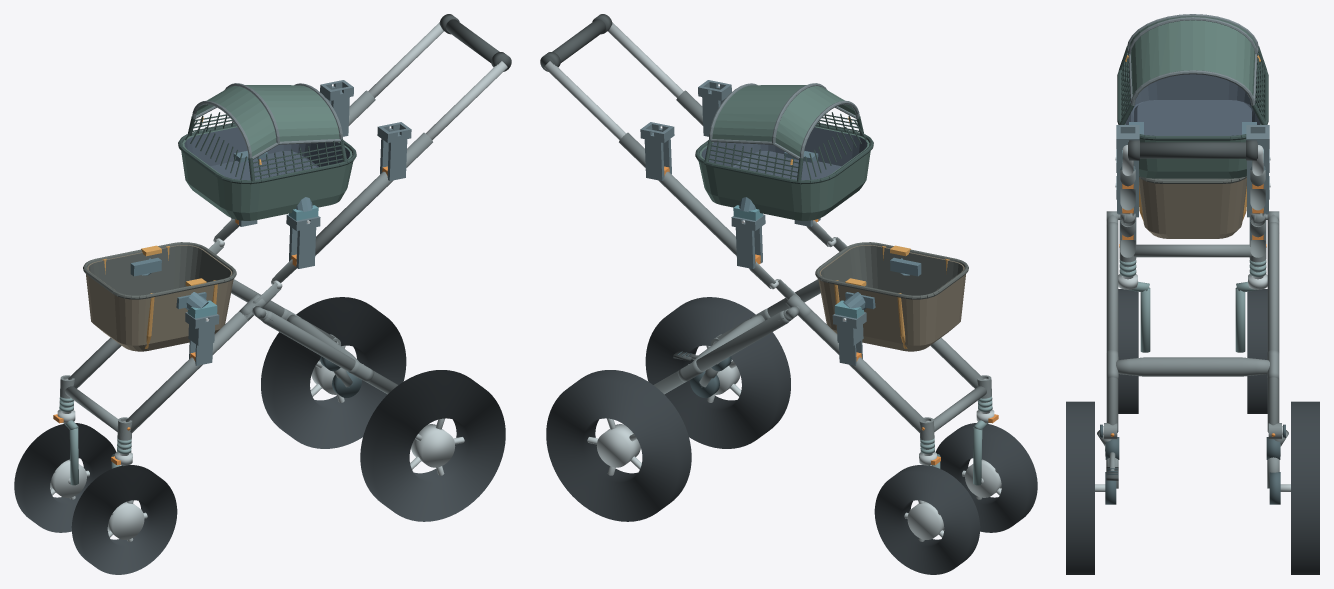
Rendered from D35_w380_state1_wheel_L.glb.
The picture shows the model from 3 angles, left to right: view 1: azimuth 30°, elevation 25°; view 2: azimuth 150°, elevation 25°; view 3: azimuth 270°, elevation 25°; orthographic projection. The views are drawn at different scales.
Visible parts, largest first — view 1: D35_Upper, RL_tire.009, RR_tire.009, D35_Lower, FL_tire.009, FR_tire.009, main_lower_-1, main_upper_-1, V46_rear_leg_-1.002, Universal_Cabin_Receiver_H_-1, RL_sealed_hub.009, Universal_Cabin_Receiver_M_-1 (+12 smaller); view 2: D35_Upper, RR_tire.009, RL_tire.009, D35_Lower, FR_tire.009, FL_tire.009, main_lower_1, main_upper_1, V46_rear_leg_1.002, Universal_Cabin_Receiver_H_1, RR_sealed_hub.009, Universal_Cabin_Receiver_M_1 (+12 smaller); view 3: D35_Upper, D35_Lower, RL_tire.009, RR_tire.009, V46_rearbar.002, V46_rear_leg_-1.002, V46_rear_leg_1.002, FL_tire.009, FR_tire.009, round_handle.010, front_fixed_round_tube, Universal_Cabin_Receiver_H_1 (+10 smaller).
Boxes of the visible parts, bbox=[...] form: D35_Upper: bbox=[178, 83, 356, 220]; RL_tire.009: bbox=[360, 370, 505, 521]; RR_tire.009: bbox=[261, 297, 406, 448]; D35_Lower: bbox=[83, 242, 236, 351]; FL_tire.009: bbox=[71, 465, 177, 574]; FR_tire.009: bbox=[14, 423, 115, 532]; main_lower_-1: bbox=[125, 311, 252, 433]; main_upper_-1: bbox=[315, 132, 432, 255]; V46_rear_leg_-1.002: bbox=[262, 310, 398, 394]; Universal_Cabin_Receiver_H_-1: bbox=[377, 122, 411, 180]; RL_sealed_hub.009: bbox=[411, 424, 455, 467]; Universal_Cabin_Receiver_M_-1: bbox=[286, 214, 320, 268]; D35_Upper: bbox=[695, 83, 873, 220]; RR_tire.009: bbox=[546, 370, 691, 521]; RL_tire.009: bbox=[645, 297, 790, 448]; D35_Lower: bbox=[815, 242, 968, 351]; FR_tire.009: bbox=[874, 465, 980, 574]; FL_tire.009: bbox=[936, 423, 1037, 532]; main_lower_1: bbox=[799, 311, 926, 433]; main_upper_1: bbox=[619, 132, 736, 255]; V46_rear_leg_1.002: bbox=[653, 310, 789, 394]; Universal_Cabin_Receiver_H_1: bbox=[640, 122, 674, 180]; RR_sealed_hub.009: bbox=[596, 424, 640, 467]; Universal_Cabin_Receiver_M_1: bbox=[731, 214, 765, 268]; D35_Upper: bbox=[1117, 14, 1268, 178]; D35_Lower: bbox=[1139, 176, 1246, 238]; RL_tire.009: bbox=[1066, 401, 1094, 574]; RR_tire.009: bbox=[1291, 401, 1319, 574]; V46_rearbar.002: bbox=[1116, 357, 1269, 376]; V46_rear_leg_-1.002: bbox=[1106, 222, 1118, 432]; V46_rear_leg_1.002: bbox=[1267, 222, 1279, 432]; FL_tire.009: bbox=[1118, 289, 1138, 413]; FR_tire.009: bbox=[1247, 289, 1267, 413]; round_handle.010: bbox=[1128, 142, 1257, 158]; front_fixed_round_tube: bbox=[1133, 244, 1252, 257]; Universal_Cabin_Receiver_H_1: bbox=[1246, 125, 1269, 189].
Size of the model in its own units: 1.18 by 1.09 by 0.5271.
